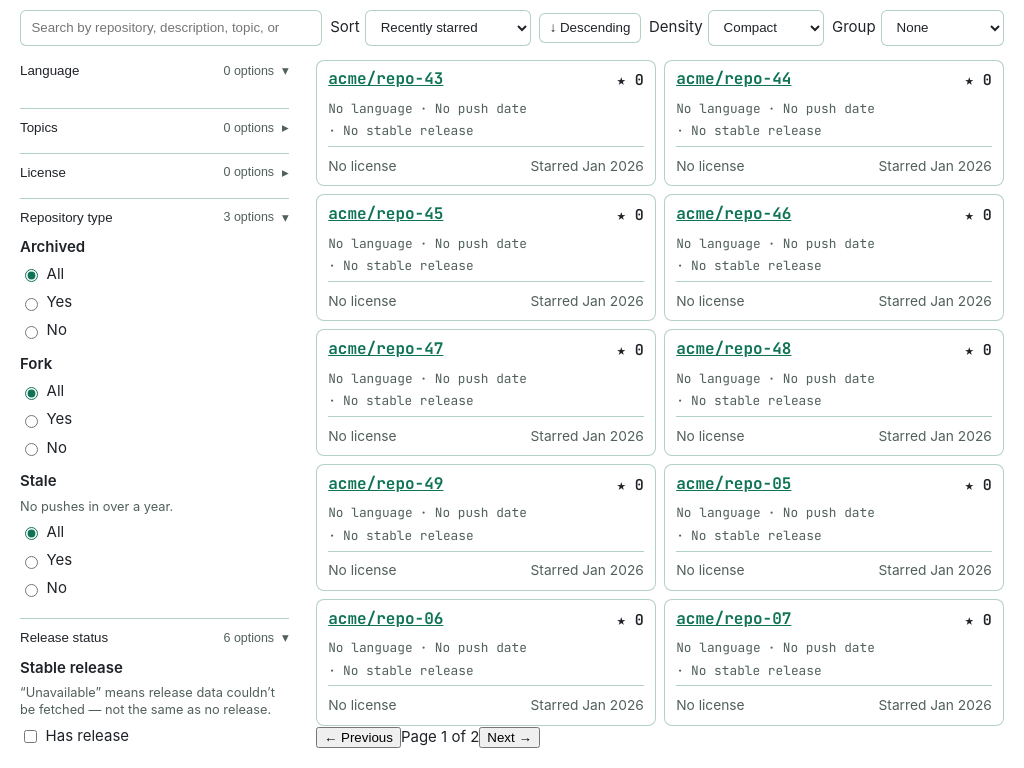
Test: M2.4 requested/effective semantics (§2.2 wired — the acceptance gate) › M24-FS-5b: with the layer unavailable + requested scope, pagination operates on the un-narrowed base set
(page scrolled)
Expected: the text "Page 1 of 2" is shown, [401,726,479,746]
Click the button "Next →" at (510, 737), box [479,726,540,748]
(page scrolled)
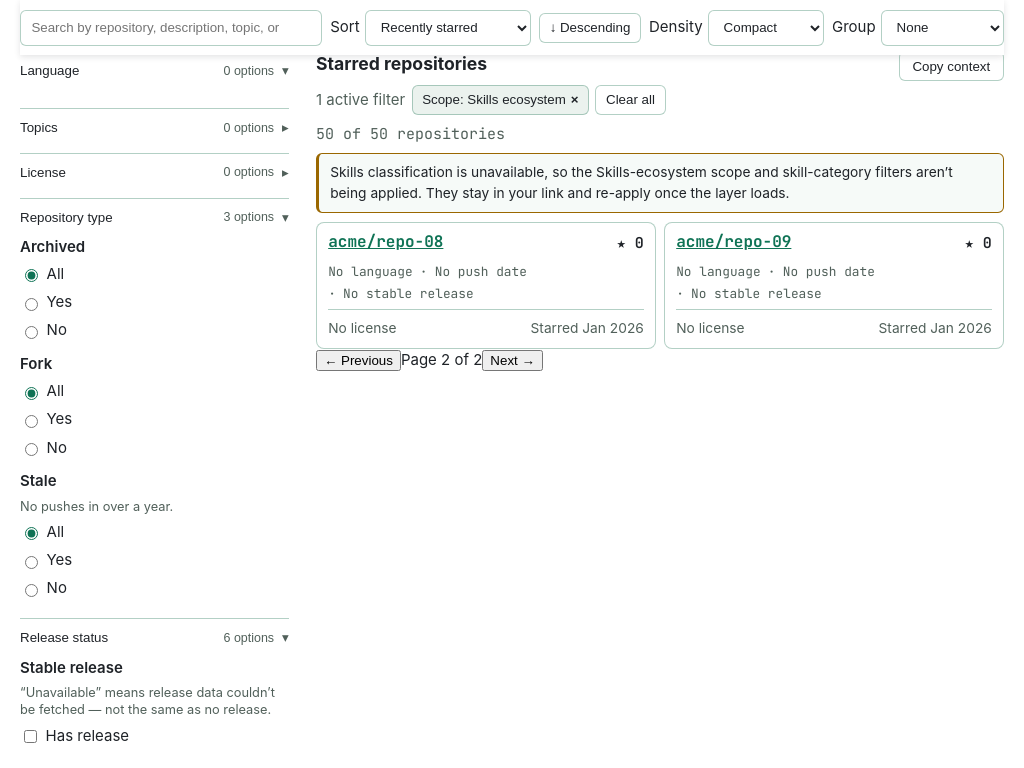
Now the text "Page 2 of 2" is shown, box [401,350,482,369]
